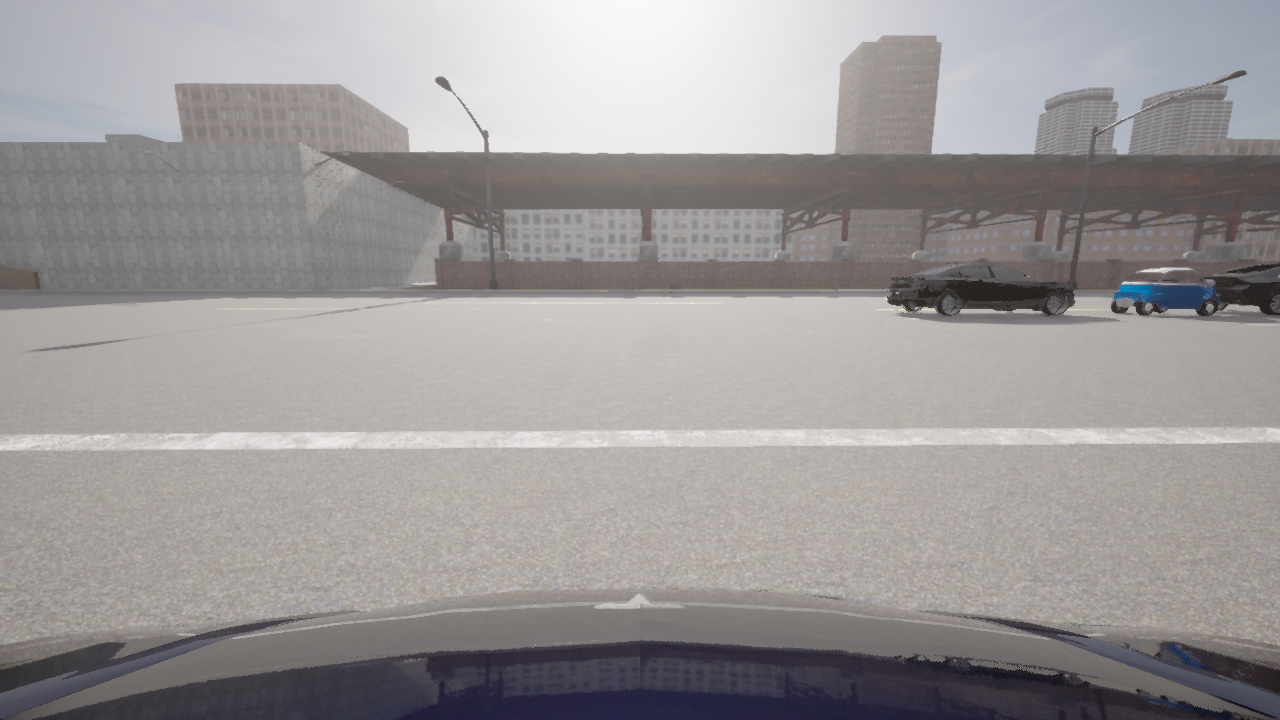cyclist: (0, 588, 1279, 719), (888, 262, 1076, 316), (1110, 267, 1220, 316), (1203, 263, 1279, 315)
